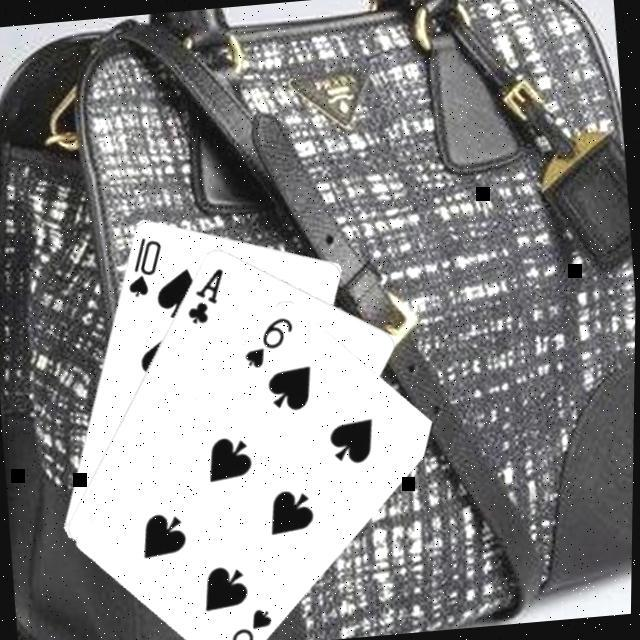10S: (120, 230, 168, 300)
6S: (237, 311, 299, 371), (217, 602, 277, 640)
AC: (180, 262, 232, 326)
